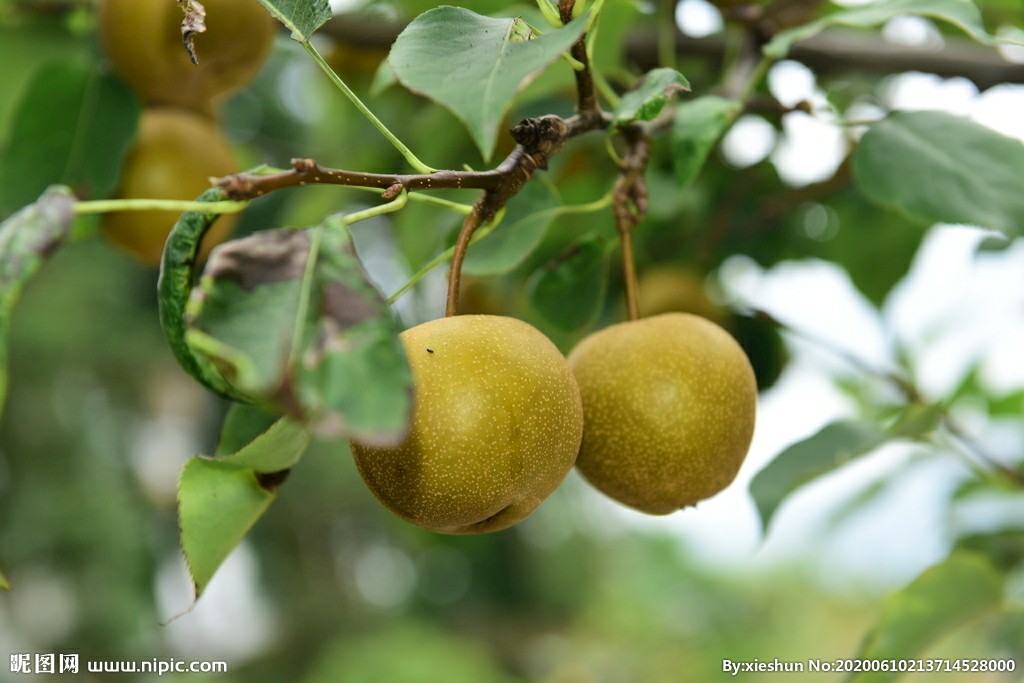pear: (353, 315, 583, 533), (562, 312, 756, 515)
